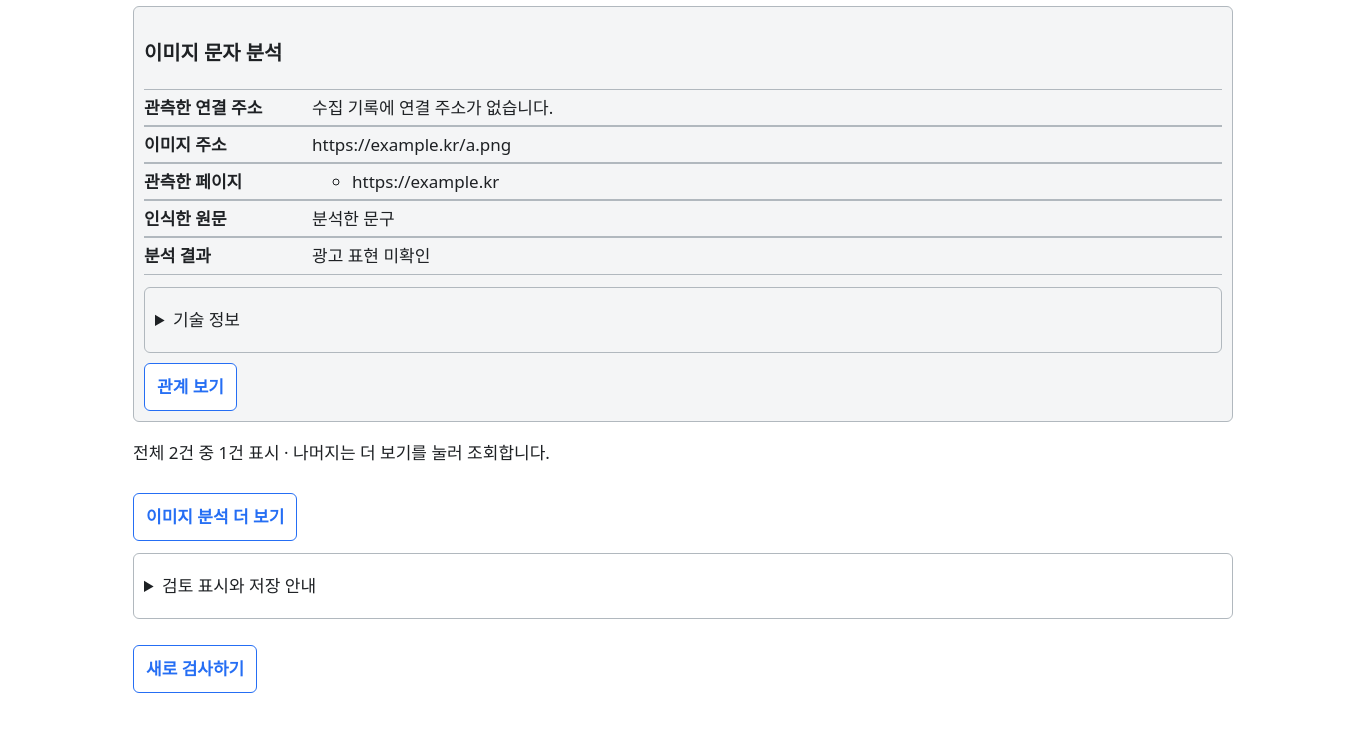
Test: operator evidence read recovery › retries a failed image page while preserving already displayed records
(page scrolled)
Click the button "이미지 분석 더 보기" at (215, 517), box x1=133 y1=493 x2=297 y2=541
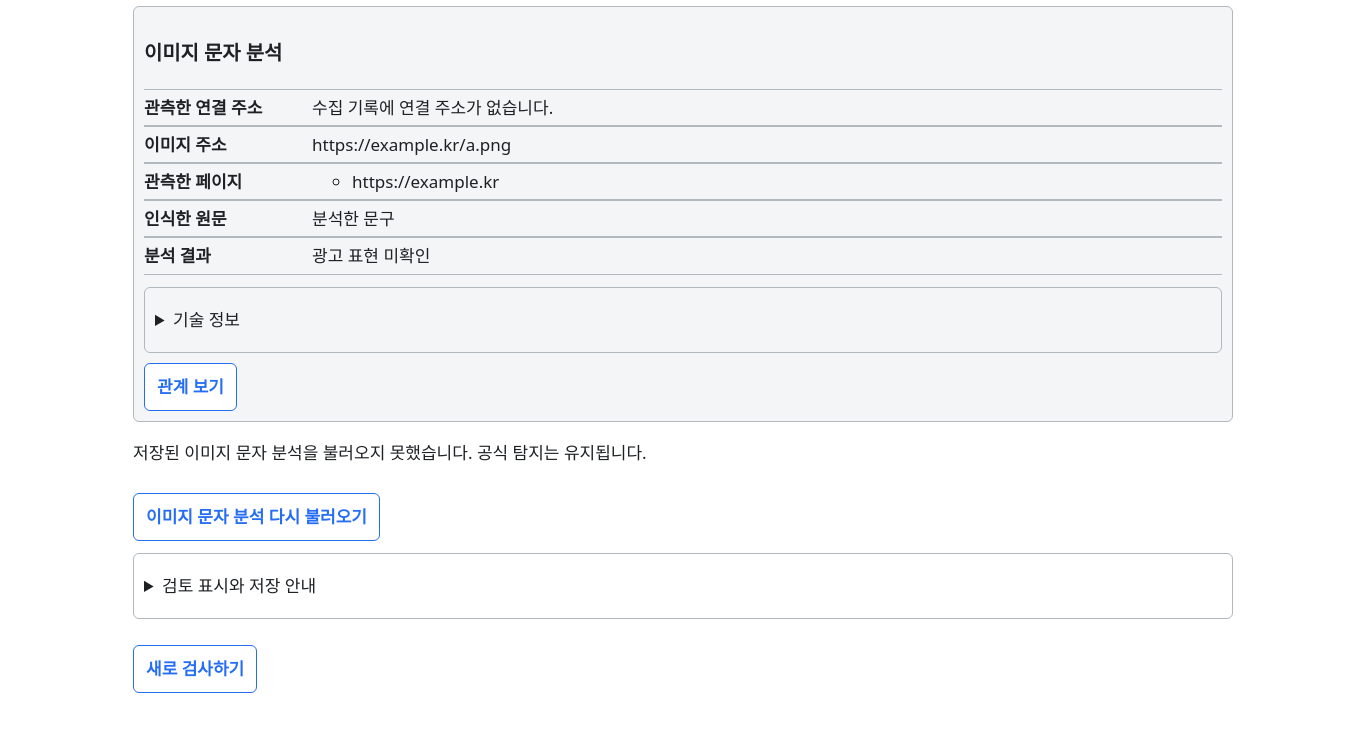
Expected: the text "분석한 문구" is shown, x1=312 y1=207 x2=395 y2=230
Now the message shows "이미지 문자 분석", box x1=133 y1=441 x2=647 y2=464
Click the button "이미지 문자 분석 다시 불러오기" at (256, 517), box x1=133 y1=493 x2=380 y2=541
(page scrolled)
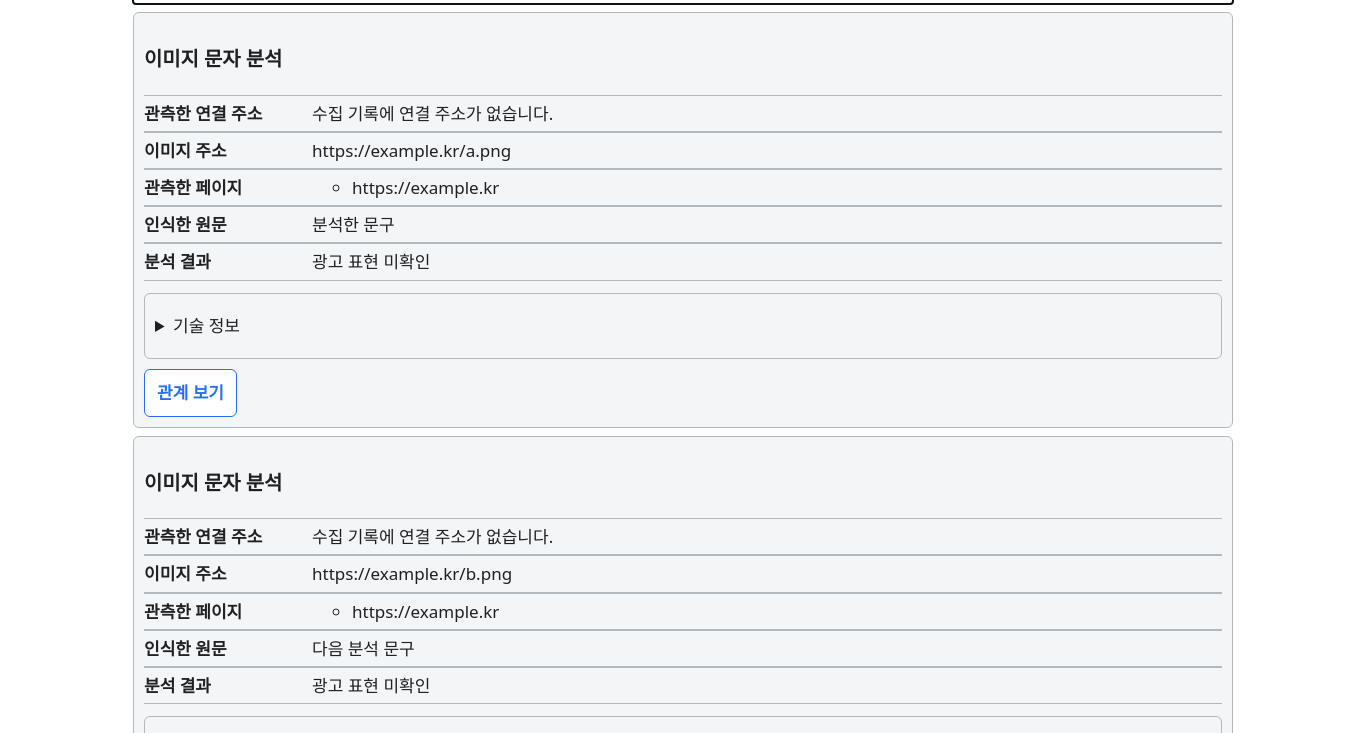
Now the text "다음 분석 문구" is shown, box x1=312 y1=637 x2=415 y2=660
